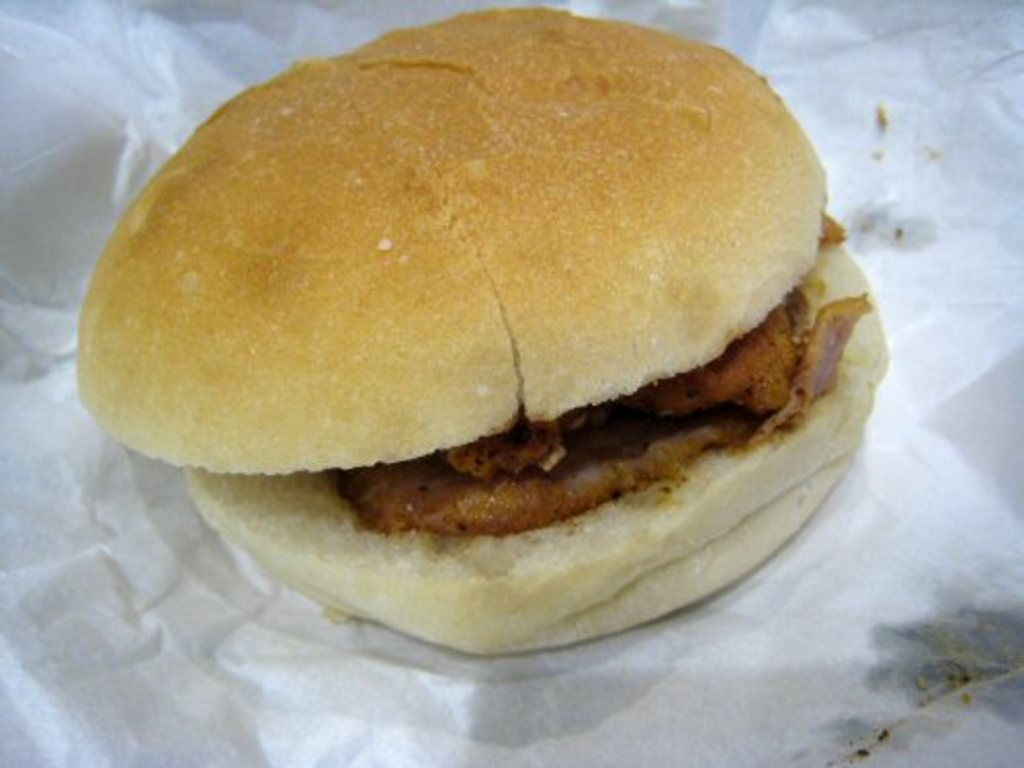Hamburger: (75, 4, 892, 661)
